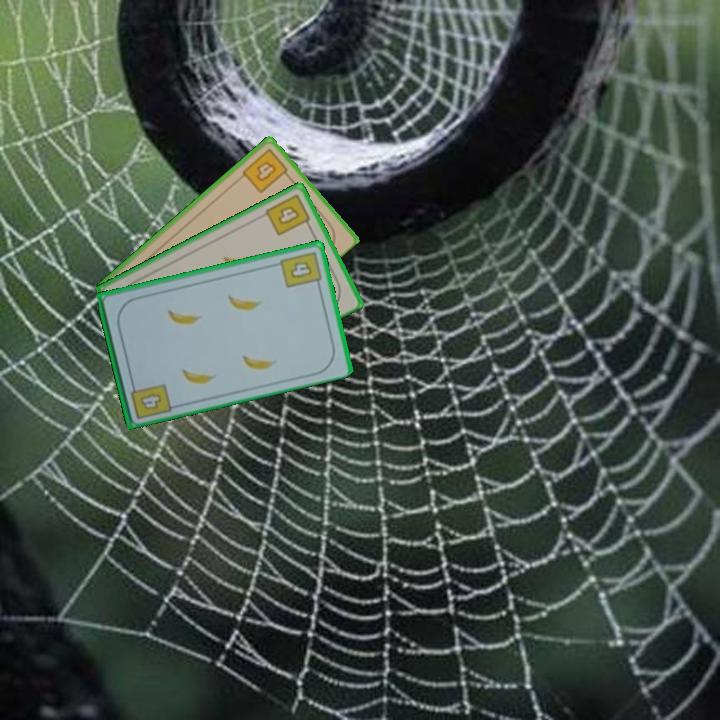4b: (239, 145, 293, 196), (262, 190, 314, 238), (127, 377, 174, 422), (277, 248, 324, 290)
